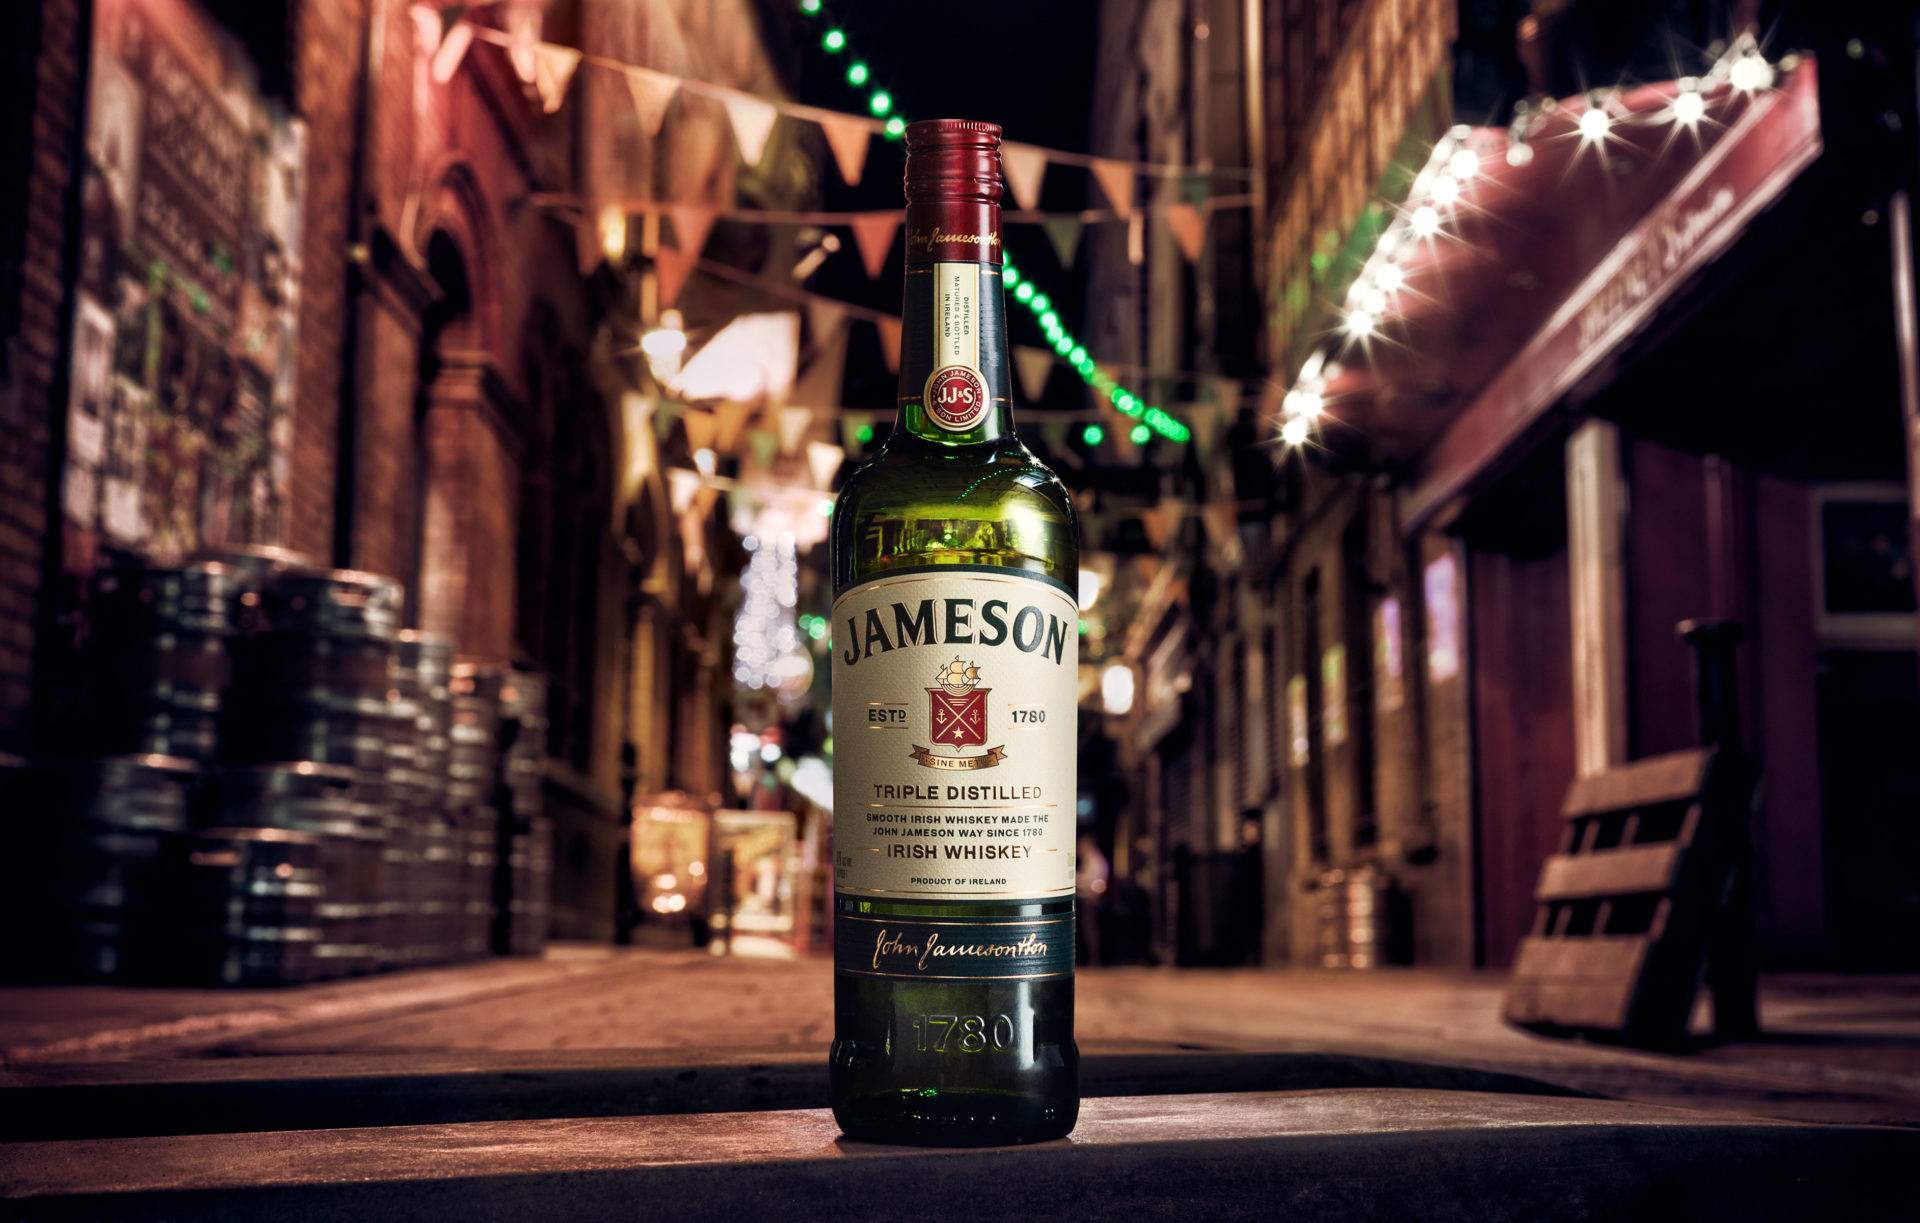Jameson: (799, 104, 1101, 1154)
